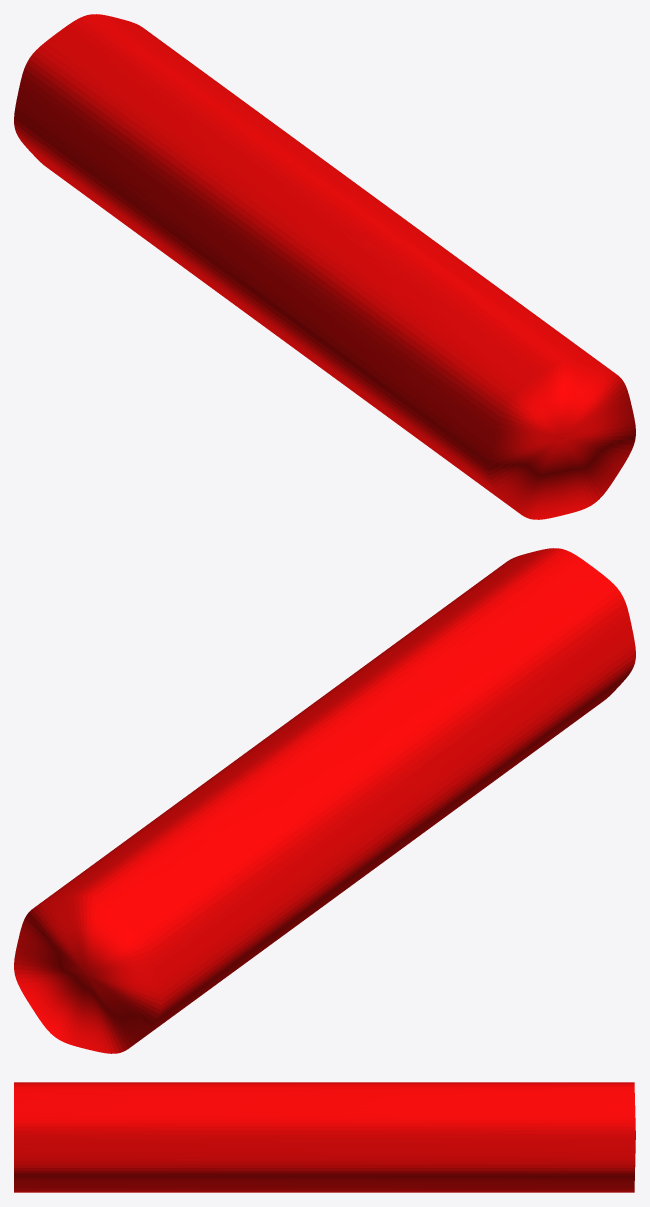
The model's file is Shaft.fbx.
3 views of the same model, one above another, from view 1: azimuth 30°, elevation 25°; view 2: azimuth 150°, elevation 25°; view 3: azimuth 270°, elevation 25° (orthographic). The views are drawn at different scales.
Visible parts, largest first — view 1: Large_Gear_48_Teeth; view 2: Large_Gear_48_Teeth; view 3: Large_Gear_48_Teeth.
Part boxes in pixels (x1,y1,x2,y2): Large_Gear_48_Teeth: (14, 14, 635, 519); Large_Gear_48_Teeth: (14, 548, 635, 1053); Large_Gear_48_Teeth: (14, 1082, 635, 1192).
Bounding box in the file's own units: 180 × 178 × 1007.
